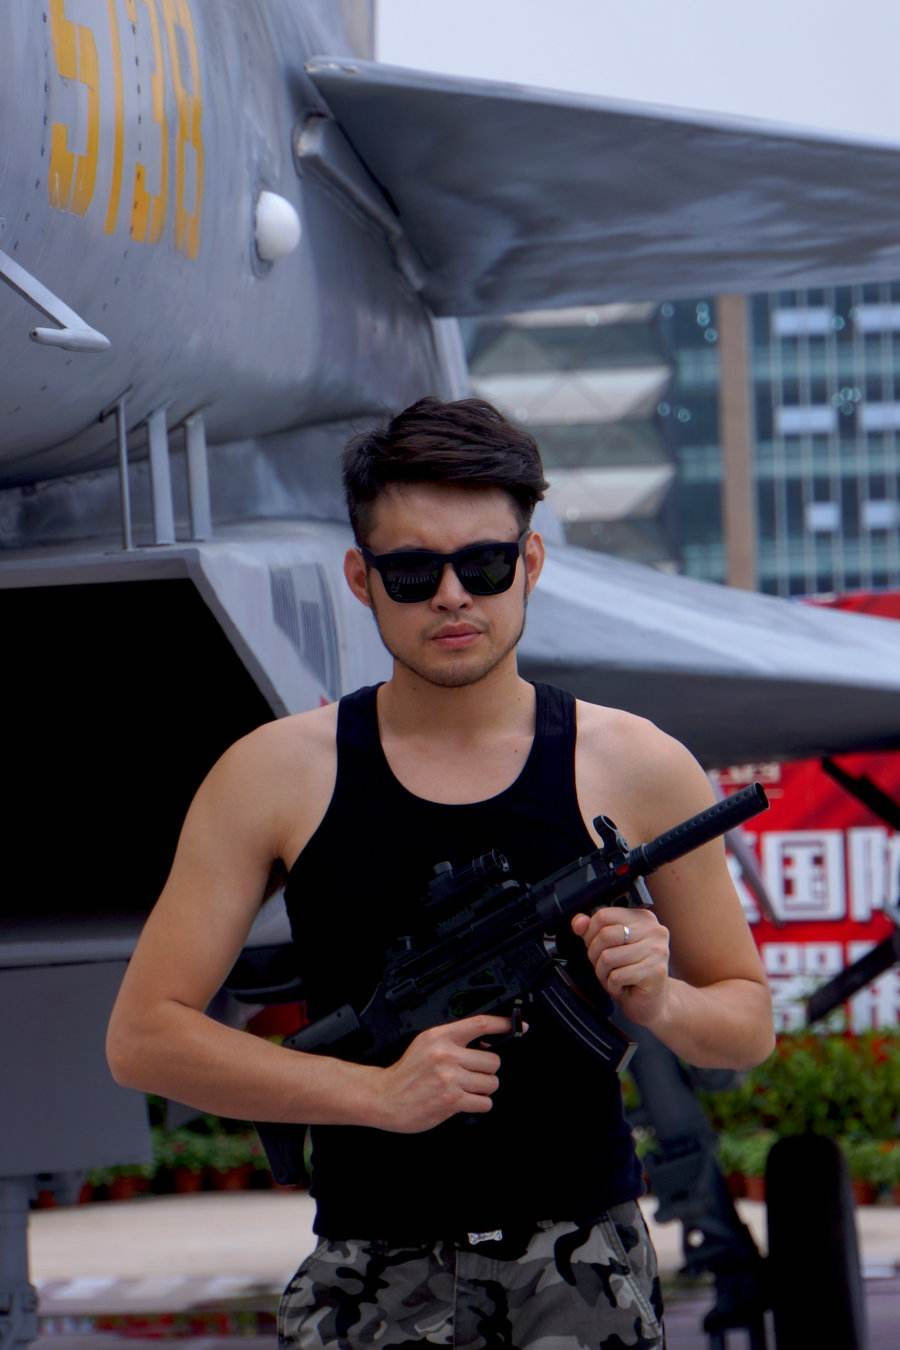person: (195, 397, 743, 1241)
